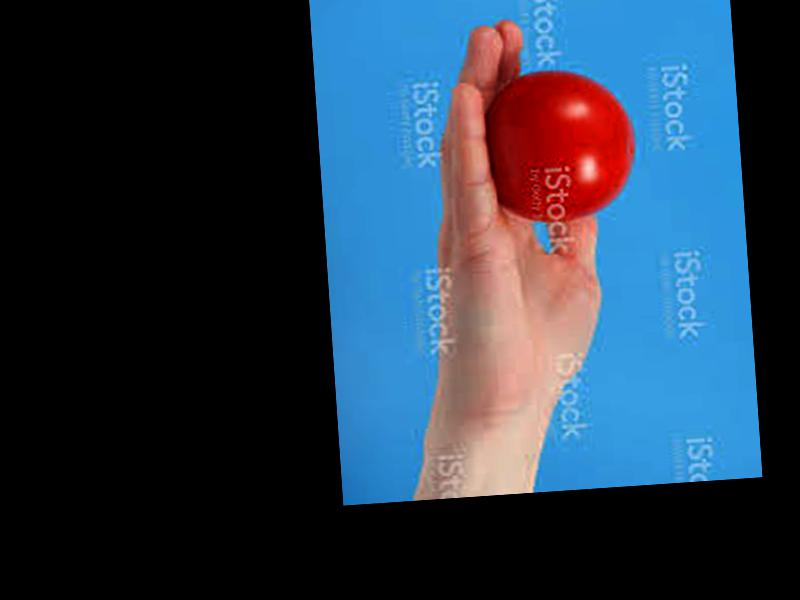Tomato: (484, 66, 636, 224)
